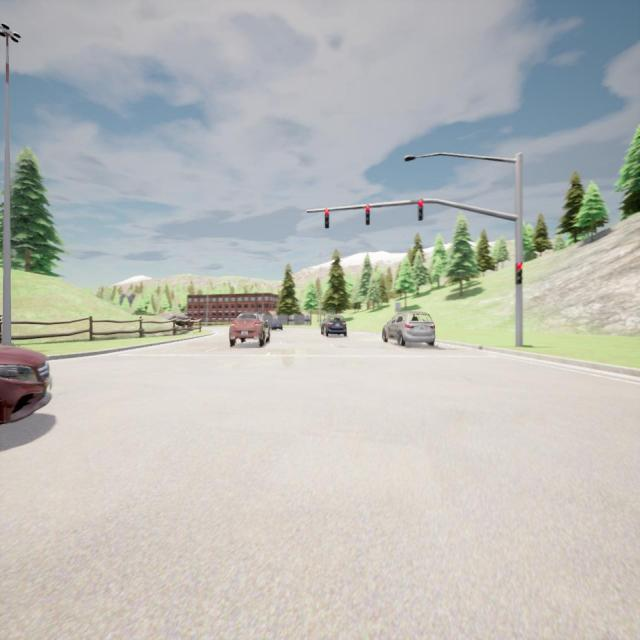Traffic_Signs: (395, 303, 401, 311)
Vehicle: (0, 342, 54, 431), (382, 312, 436, 346), (228, 312, 268, 347), (320, 315, 348, 337), (270, 320, 283, 331)
traffic_light: (516, 261, 522, 286), (418, 200, 423, 222), (366, 205, 370, 225), (325, 209, 329, 228)
